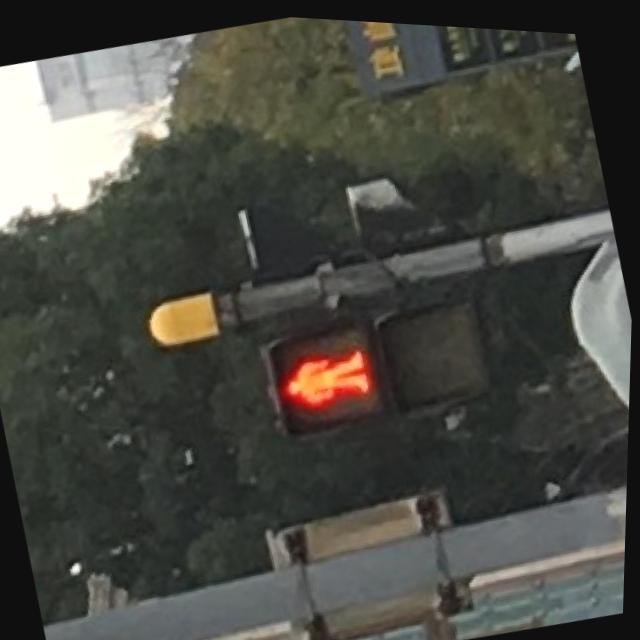red_light: (260, 319, 388, 426)
